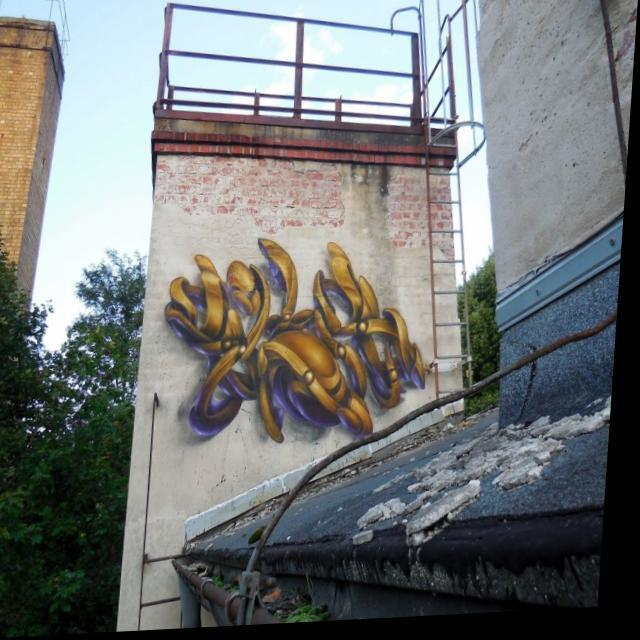-: (150, 216, 451, 464)
